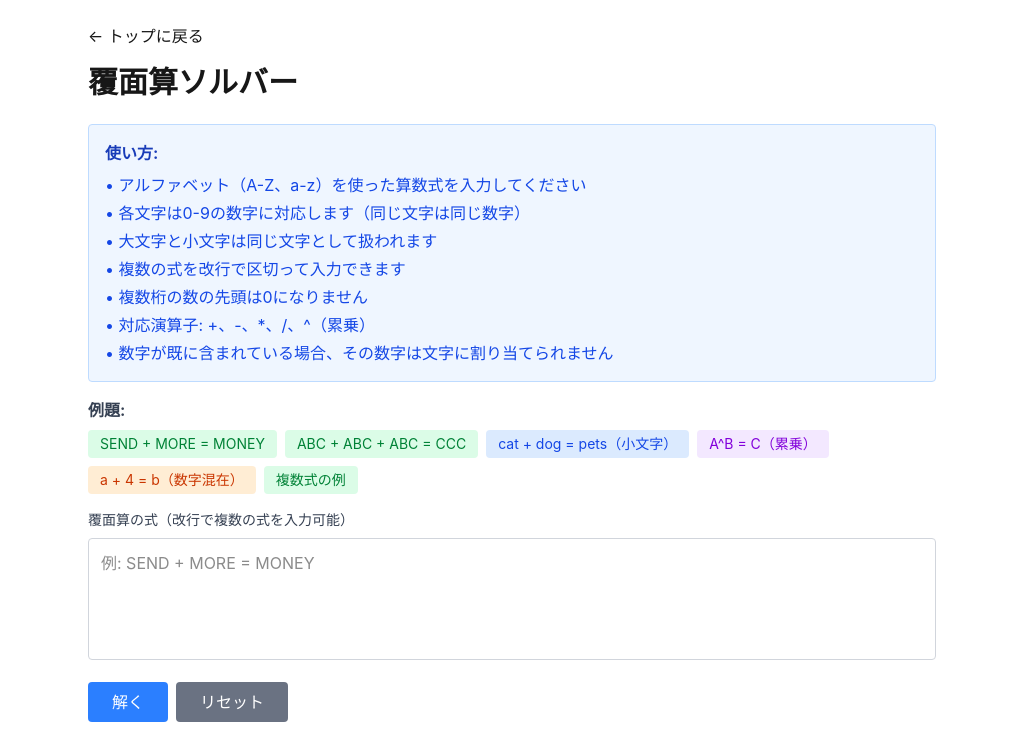
CryptarithmeticPage › 例題ボタンをクリックするとテキストエリアに式が入力される
Click the button "SEND + MORE = MONEY". click: (182, 444)
box: left=88, top=430, right=277, bottom=458
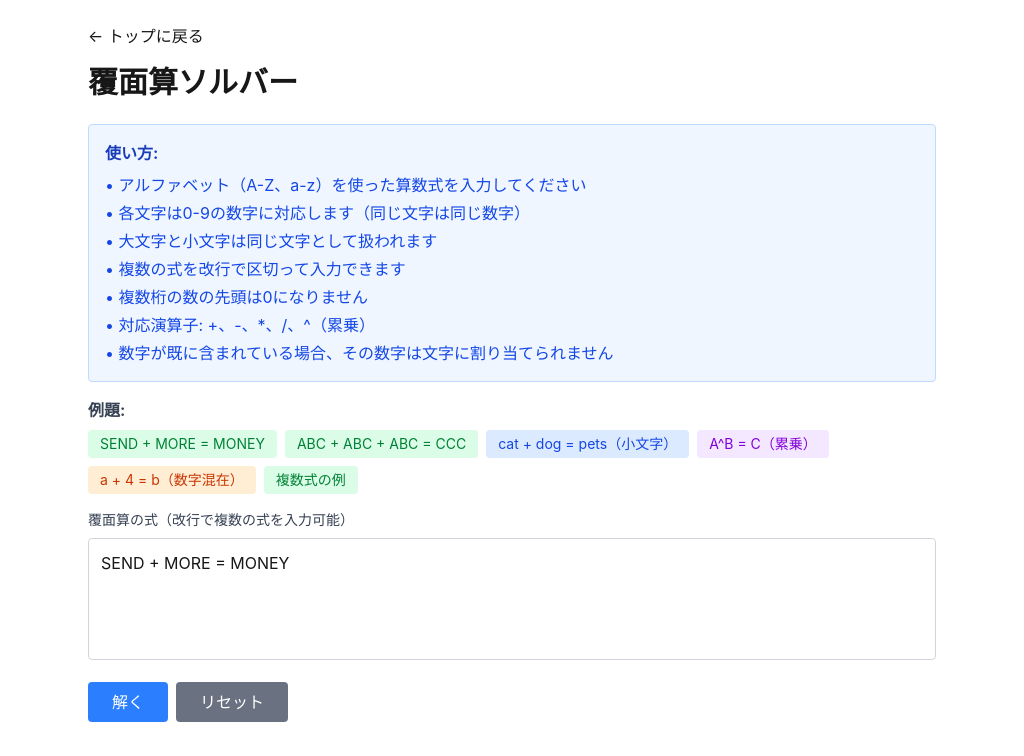
Expected: the text box labelled "覆面算の式（改行で複数の式を入力可能）" holds "SEND + MORE = MONEY", left=88, top=538, right=936, bottom=660
